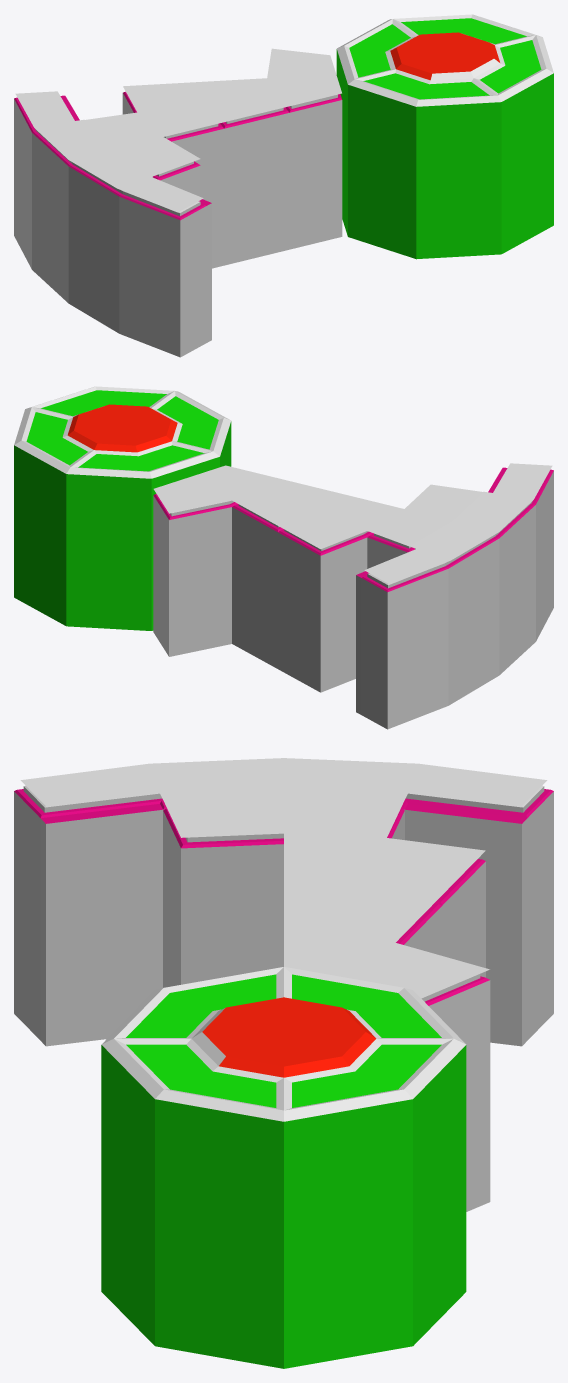
The model's file is arena_New.fbx.
3 renders of one model, top to bottom at view 1: azimuth 30°, elevation 25°; view 2: azimuth 150°, elevation 25°; view 3: azimuth 270°, elevation 25°, orthographic. The views are drawn at different scales.
Parts seen in each view (by area): view 1: Arena_Center, Ring_5, Ring_1, Ring_0, Ring_5_Danger, Ring_3, Ring_3_Danger, Ring_Danger, Ring_0_Danger, Ring_1_Danger, Ring_4; view 2: Arena_Center, Ring_5, Ring_3, Ring_0, Ring_1, Ring_5_Danger, Ring_3_Danger, Ring_Danger, Ring_0_Danger, Ring_1_Danger, Ring_4; view 3: Arena_Center, Ring_5, Ring_4, Ring_5_Danger, Ring_3_Danger, Ring_Danger, Ring_0_Danger, Ring_0, Ring_1_Danger, Ring_3, Ring_1.
Part boxes in pixels (x1,y1,x2,y2): Arena_Center: [336, 14, 553, 259]; Ring_5: [14, 95, 211, 357]; Ring_1: [220, 107, 289, 265]; Ring_0: [285, 94, 342, 249]; Ring_5_Danger: [15, 91, 203, 212]; Ring_3: [122, 91, 224, 268]; Ring_3_Danger: [123, 82, 223, 136]; Ring_Danger: [85, 112, 200, 174]; Ring_0_Danger: [267, 48, 341, 105]; Ring_1_Danger: [192, 78, 289, 121]; Ring_4: [153, 161, 200, 196]; Arena_Center: [14, 386, 231, 630]; Ring_5: [356, 467, 553, 729]; Ring_3: [278, 529, 373, 692]; Ring_0: [153, 494, 237, 656]; Ring_1: [232, 504, 283, 668]; Ring_5_Danger: [364, 463, 552, 584]; Ring_3_Danger: [278, 494, 403, 549]; Ring_Danger: [367, 484, 482, 546]; Ring_0_Danger: [153, 465, 277, 513]; Ring_1_Danger: [232, 478, 342, 525]; Ring_4: [367, 533, 414, 568]; Arena_Center: [101, 967, 466, 1368]; Ring_5: [14, 785, 553, 1046]; Ring_4: [163, 809, 404, 987]; Ring_5_Danger: [20, 758, 547, 806]; Ring_3_Danger: [284, 833, 485, 894]; Ring_Danger: [163, 795, 404, 837]; Ring_0_Danger: [284, 933, 489, 998]; Ring_0: [421, 974, 490, 1211]; Ring_1_Danger: [284, 881, 441, 942]; Ring_3: [434, 859, 485, 977]; Ring_1: [396, 903, 442, 955].
Bounding box in the file's own units: 644 × 208 × 391.
